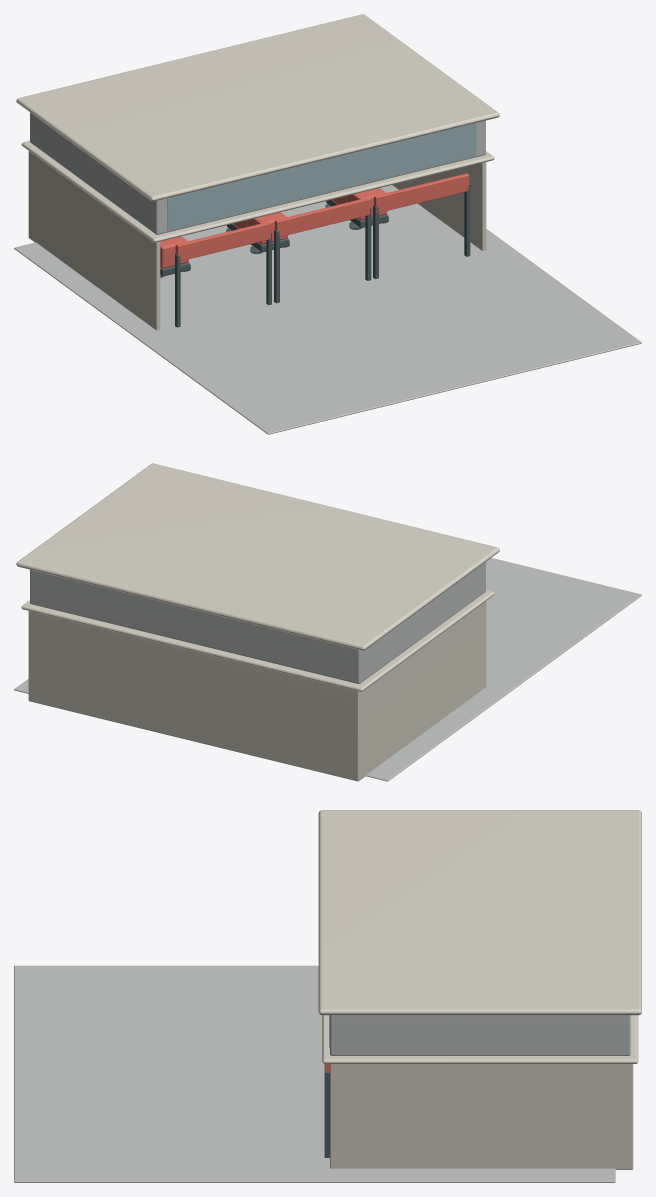
The model's file is fire-station.glb.
The picture shows the model from 3 angles, top to bottom: view 1: azimuth 30°, elevation 25°; view 2: azimuth 150°, elevation 25°; view 3: azimuth 270°, elevation 25°; orthographic projection. The views are drawn at different scales.
Visible parts, largest first — view 1: facility warm architectural concrete, facility textured limestone, upper glass front, facility emergency red, facility graphite frame; view 2: facility textured limestone, facility warm architectural concrete; view 3: facility textured limestone, facility warm architectural concrete.
Part boxes in pixels (x1,y1,x2,y2): facility warm architectural concrete: (14, 112, 641, 434); facility textured limestone: (16, 14, 499, 330); upper glass front: (167, 123, 475, 230); facility emergency red: (160, 173, 469, 268); facility graphite frame: (160, 183, 470, 327); facility textured limestone: (16, 463, 499, 781); facility warm architectural concrete: (14, 558, 641, 781); facility textured limestone: (318, 810, 641, 1169); facility warm architectural concrete: (14, 965, 630, 1182).
Size of the model in its own units: 34 by 12.14 by 41.75.
